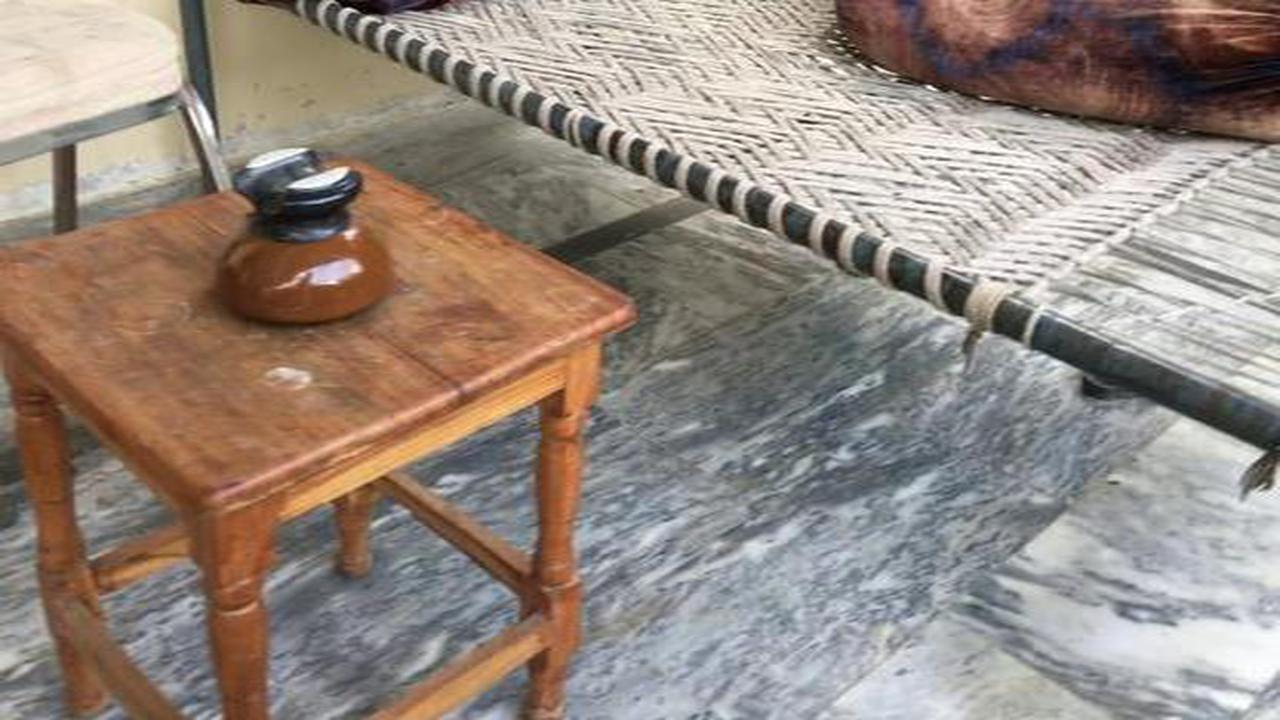insulator_pin: (194, 136, 404, 335)
